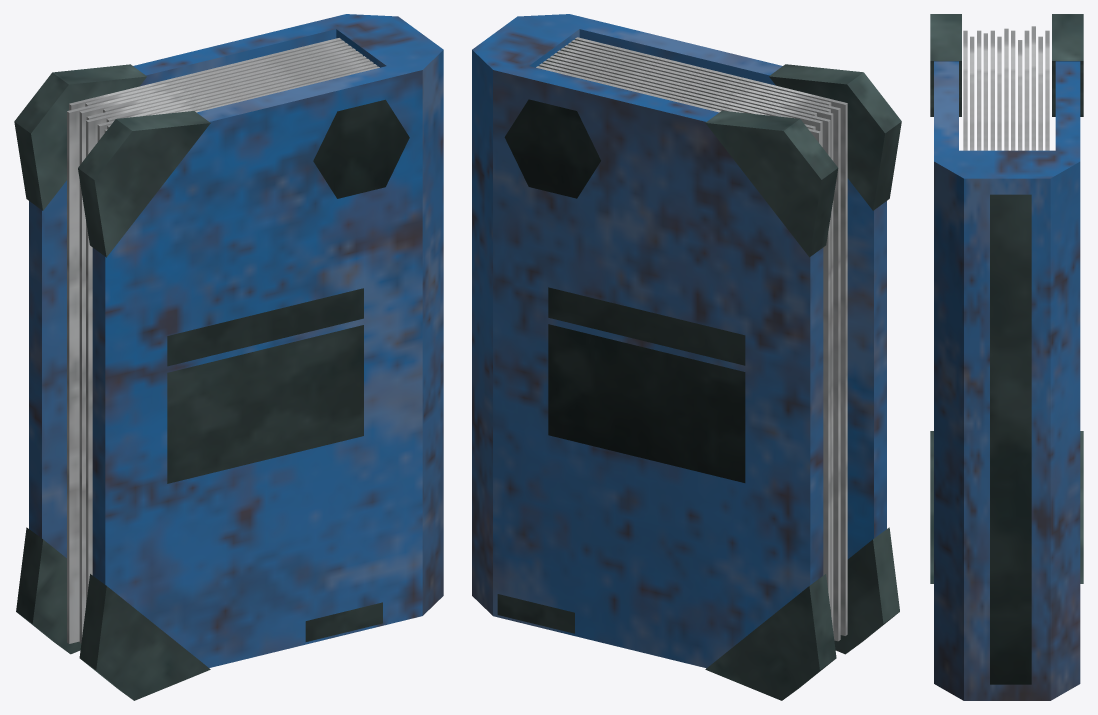
The model's file is Book6_SM.fbx.
3 renders of one model, left to right at view 1: azimuth 30°, elevation 25°; view 2: azimuth 150°, elevation 25°; view 3: azimuth 270°, elevation 25°, orthographic. The views are drawn at different scales.
Visible parts, largest first — view 1: Book_SM001; view 2: Book_SM001; view 3: Book_SM001.
Part boxes in pixels (box(x1,y1,x2,y2)): Book_SM001: box(14, 14, 443, 700); Book_SM001: box(472, 14, 901, 700); Book_SM001: box(930, 14, 1083, 700).
Bounding box in the file's own units: 28.54 × 42.4 × 10.81.
